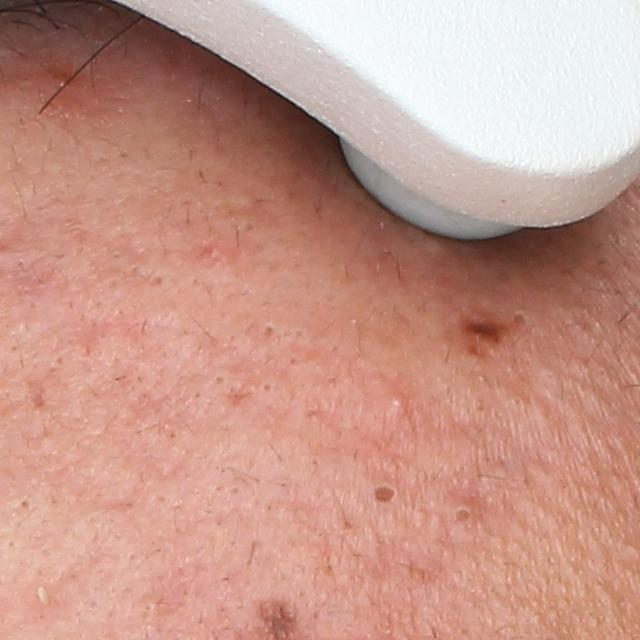comedo: (372, 482, 399, 505), (260, 322, 276, 340), (261, 381, 275, 395), (213, 373, 228, 386), (21, 497, 33, 510)
pustule: (28, 583, 62, 611)
